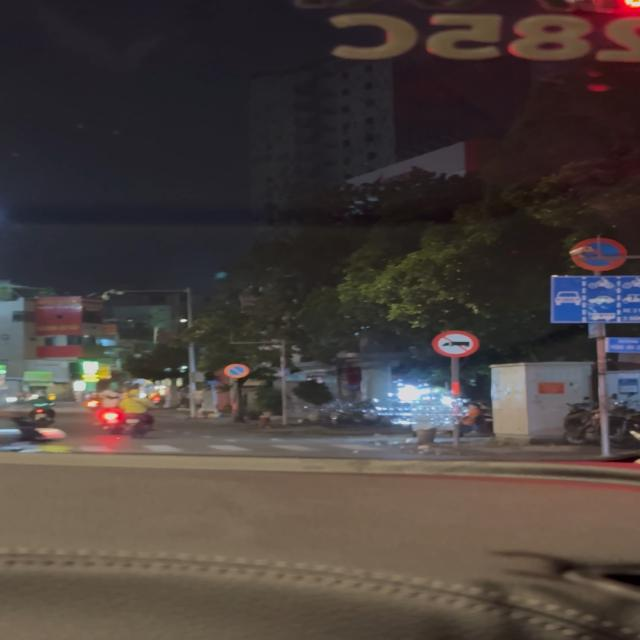Bien bao cam do xe: (221, 362, 256, 380)
Bien bao cam xe so-mi ro-mooc: (429, 329, 481, 357)
